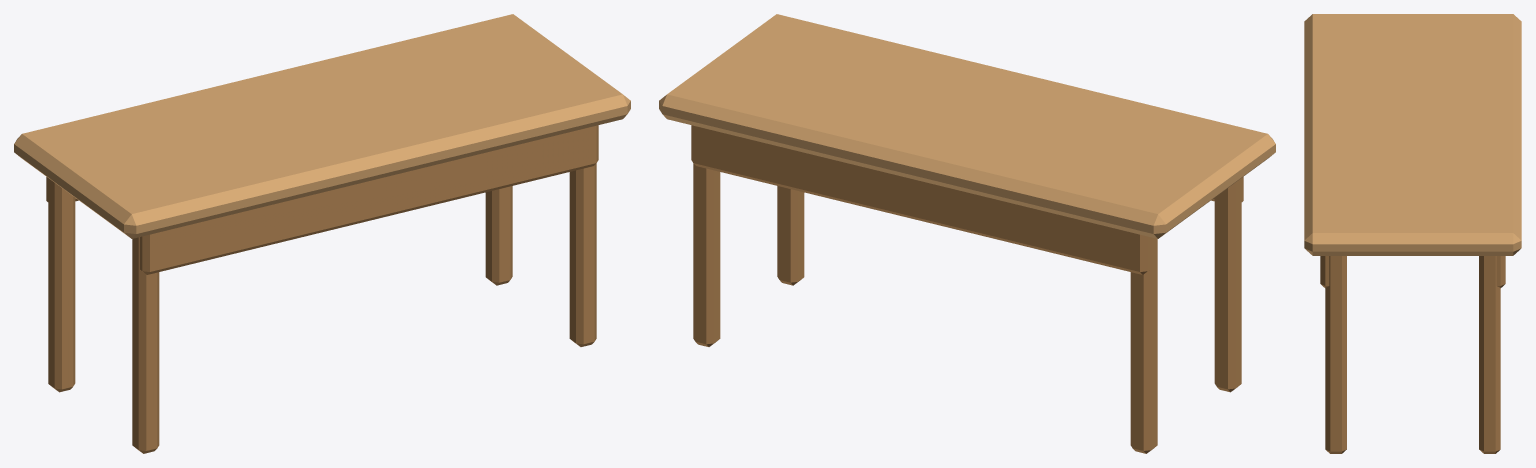
The model's file is student-desk.glb.
3 views of the same model, side by side, from view 1: azimuth 30°, elevation 25°; view 2: azimuth 150°, elevation 25°; view 3: azimuth 270°, elevation 25° (orthographic). The views are drawn at different scales.
Parts seen in each view (by area): view 1: student_desk; view 2: student_desk; view 3: student_desk.
Boxes of the visible parts, <box> form: student_desk: <box>14,14,630,453</box>; student_desk: <box>659,14,1275,453</box>; student_desk: <box>1304,14,1521,453</box>.
Size of the model in its own units: 1.6 by 0.76 by 0.65.
